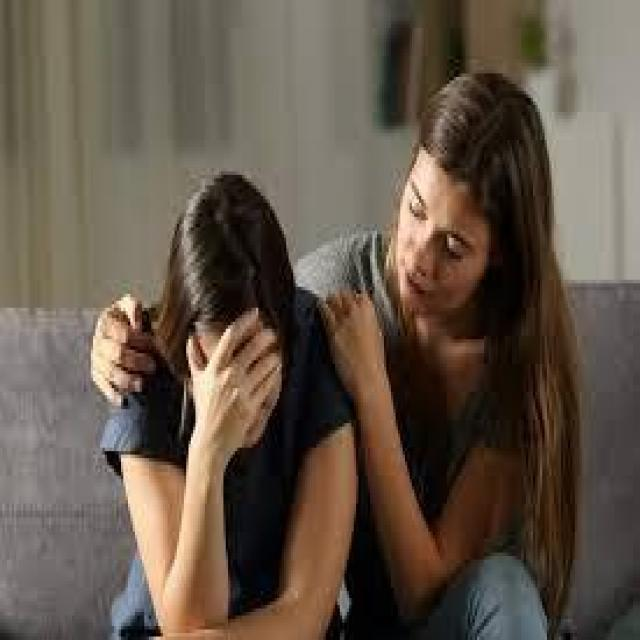person: (330, 28, 582, 636), (93, 140, 352, 636)
